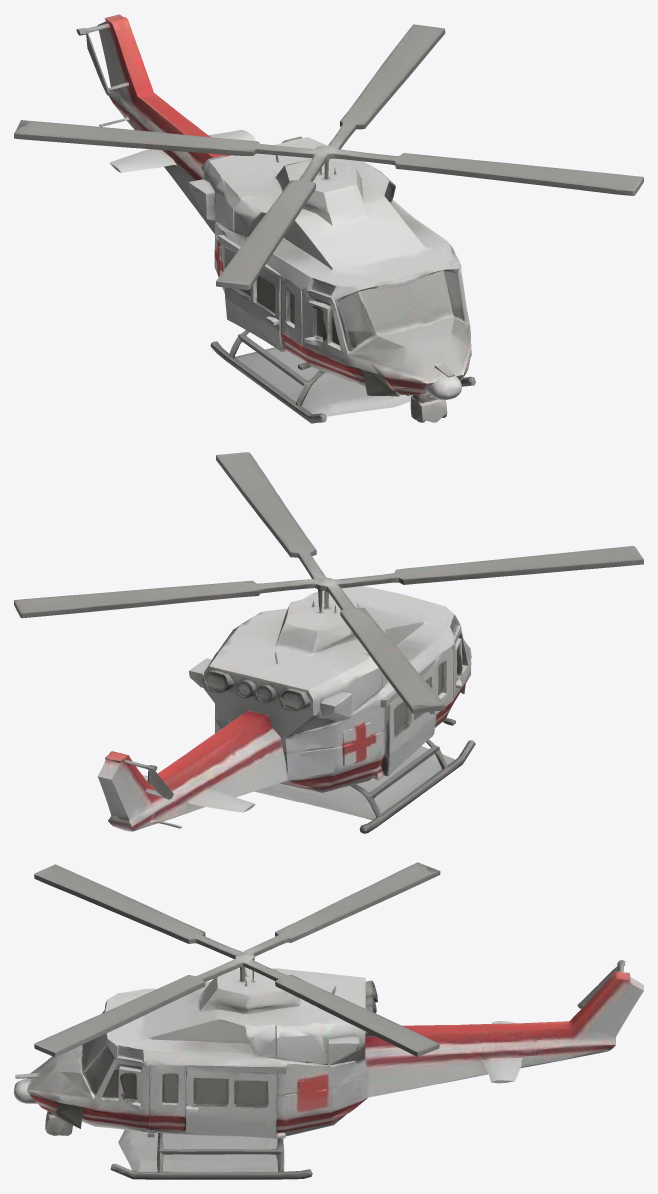
File: helicoptero_resgate.glb
3 views of the same model, one above another, from view 1: azimuth 30°, elevation 25°; view 2: azimuth 150°, elevation 25°; view 3: azimuth 270°, elevation 25° (orthographic). The views are drawn at different scales.
Visible parts, largest first — view 1: tripo_node_8cfc9f1a-cf82-4296-b815-1a09400b2fcf; view 2: tripo_node_8cfc9f1a-cf82-4296-b815-1a09400b2fcf; view 3: tripo_node_8cfc9f1a-cf82-4296-b815-1a09400b2fcf.
Boxes of the visible parts, <box> form: tripo_node_8cfc9f1a-cf82-4296-b815-1a09400b2fcf: <box>14,14,643,423</box>; tripo_node_8cfc9f1a-cf82-4296-b815-1a09400b2fcf: <box>14,452,643,833</box>; tripo_node_8cfc9f1a-cf82-4296-b815-1a09400b2fcf: <box>14,862,643,1179</box>.
Bounding box in the file's own units: 8.93 × 4.2 × 12.5.
Materials: 1 (1 with a texture image).
